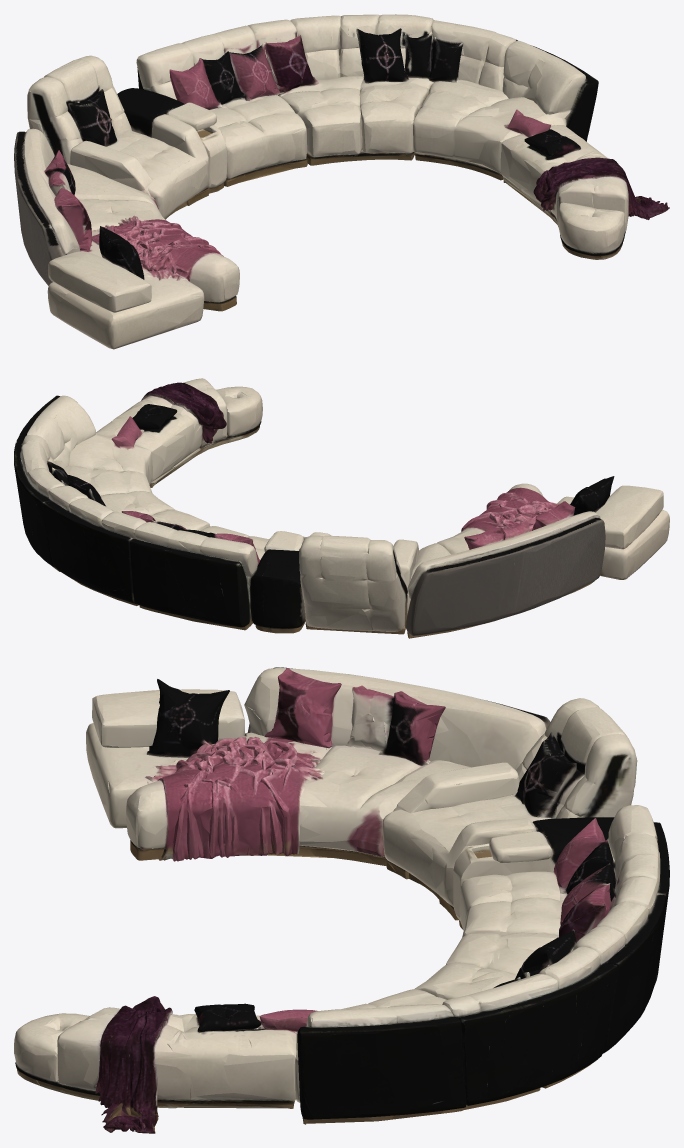
3 views of the same model, one above another, from view 1: azimuth 30°, elevation 25°; view 2: azimuth 150°, elevation 25°; view 3: azimuth 270°, elevation 25° (orthographic). The views are drawn at different scales.
Parts seen in each view (by area): view 1: Mesh_0; view 2: Mesh_0; view 3: Mesh_0.
Part boxes in pixels (box(x1,y1,x2,y2)): Mesh_0: box(14, 14, 669, 349); Mesh_0: box(14, 378, 669, 638); Mesh_0: box(14, 667, 669, 1133).
Bounding box in the file's own units: 1.9 × 0.3527 × 1.41.
1 material, 1 textured.
